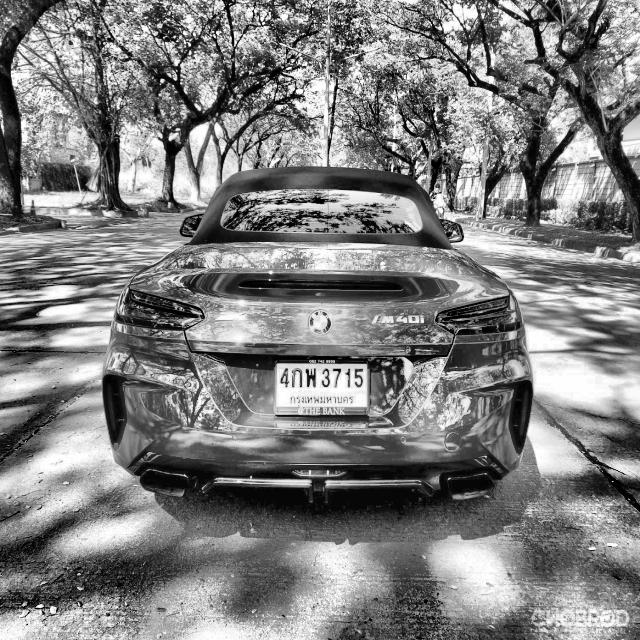license-plate: (276, 359, 370, 415)
